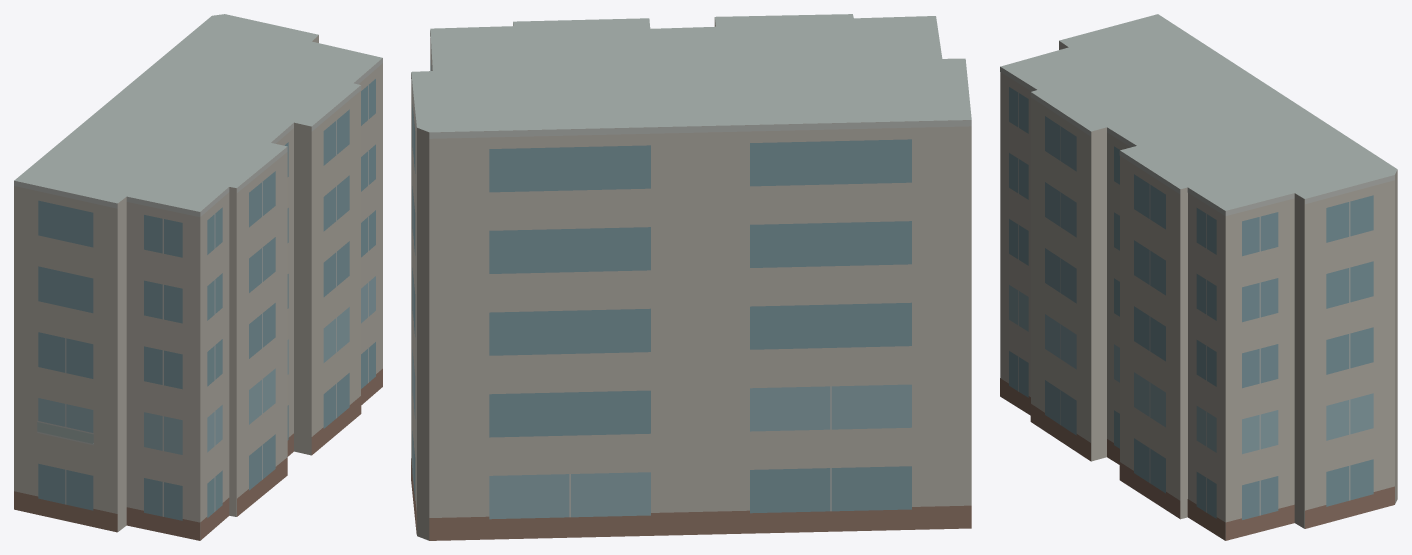
File: survey-upis-32731088.glb
3 renders of one model, left to right at view 1: azimuth 30°, elevation 25°; view 2: azimuth 150°, elevation 25°; view 3: azimuth 270°, elevation 25°, orthographic. The views are drawn at different scales.
Visible parts, largest first — view 1: survey-upis-32731088.tmp; view 2: survey-upis-32731088.tmp; view 3: survey-upis-32731088.tmp.
Part boxes in pixels (box(x1,y1,x2,y2)): survey-upis-32731088.tmp: box(14, 14, 382, 540); survey-upis-32731088.tmp: box(411, 14, 971, 540); survey-upis-32731088.tmp: box(1000, 14, 1397, 540).
Bounding box in the file's own units: 19.6 × 15.3 × 16.71.
